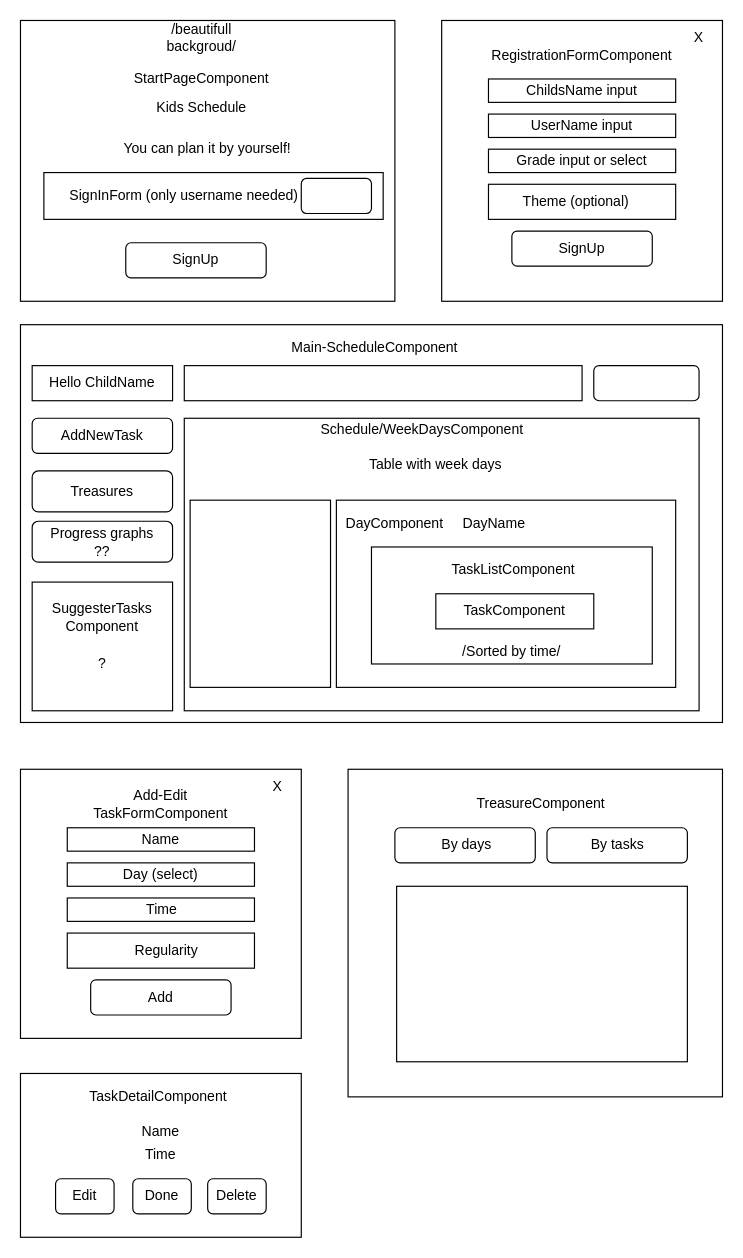
This 743x1258 diagram has some shape labels left out. Each missing label, with the centre of its shape:
"Progress scale component" goes at (382,382).
"SighOutButton" goes at (646,382).
"SignIn" goes at (335,195).
"Table with day-tasks earnings" goes at (541,973).
"TimeComponent ?= DayComponent" goes at (260,593).
